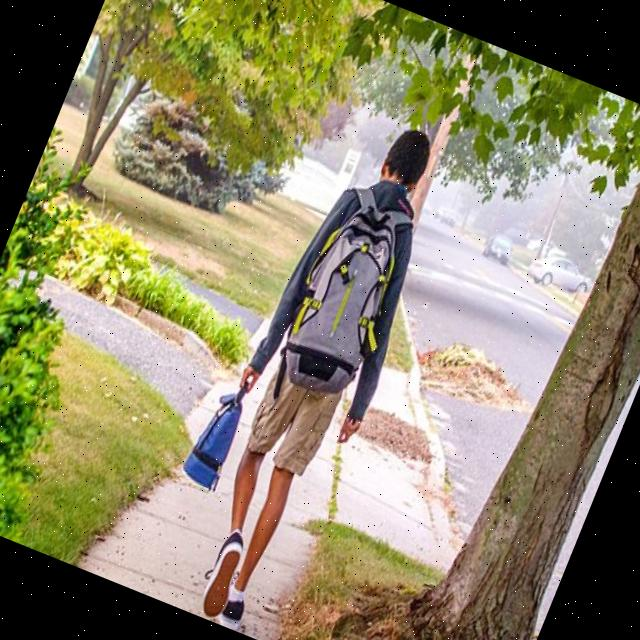Person: (135, 95, 471, 640)
